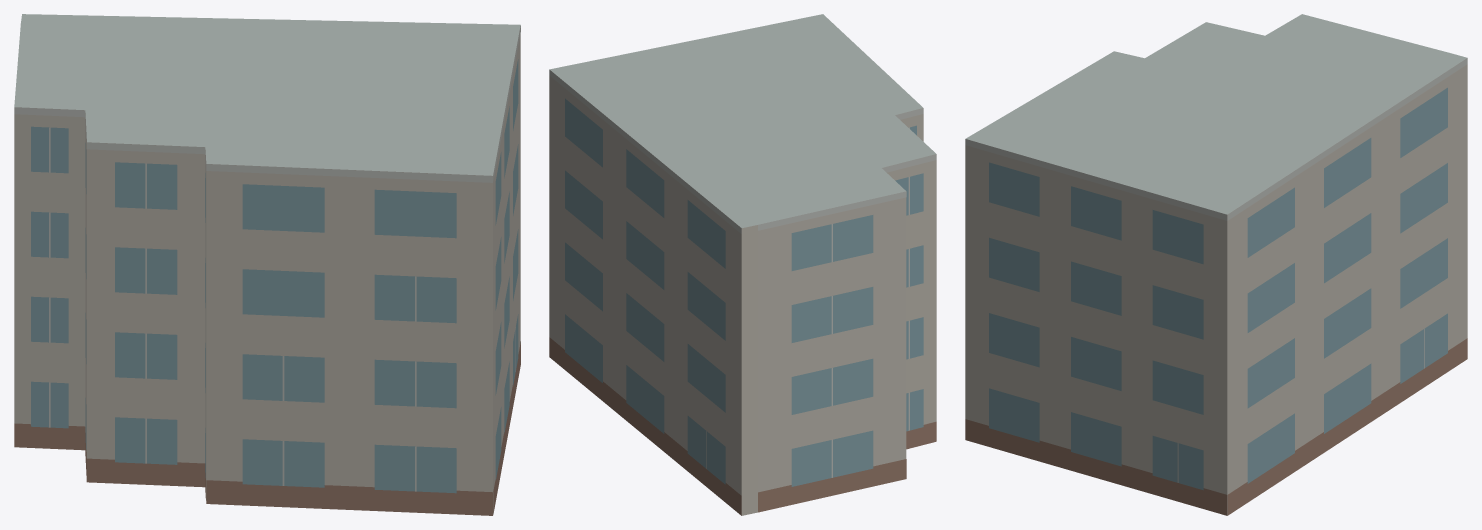
Rendered from survey-upis-32611628.glb.
3 views of the same model, side by side, from view 1: azimuth 30°, elevation 25°; view 2: azimuth 150°, elevation 25°; view 3: azimuth 270°, elevation 25° (orthographic). The views are drawn at different scales.
Parts seen in each view (by area): view 1: survey-upis-32611628.tmp; view 2: survey-upis-32611628.tmp; view 3: survey-upis-32611628.tmp.
Boxes of the visible parts, x1,y1,x2,y2 form: survey-upis-32611628.tmp: (14, 14, 520, 515); survey-upis-32611628.tmp: (549, 14, 936, 515); survey-upis-32611628.tmp: (965, 14, 1467, 515).
Size of the model in its own units: 16.73 by 11.7 by 17.69.
